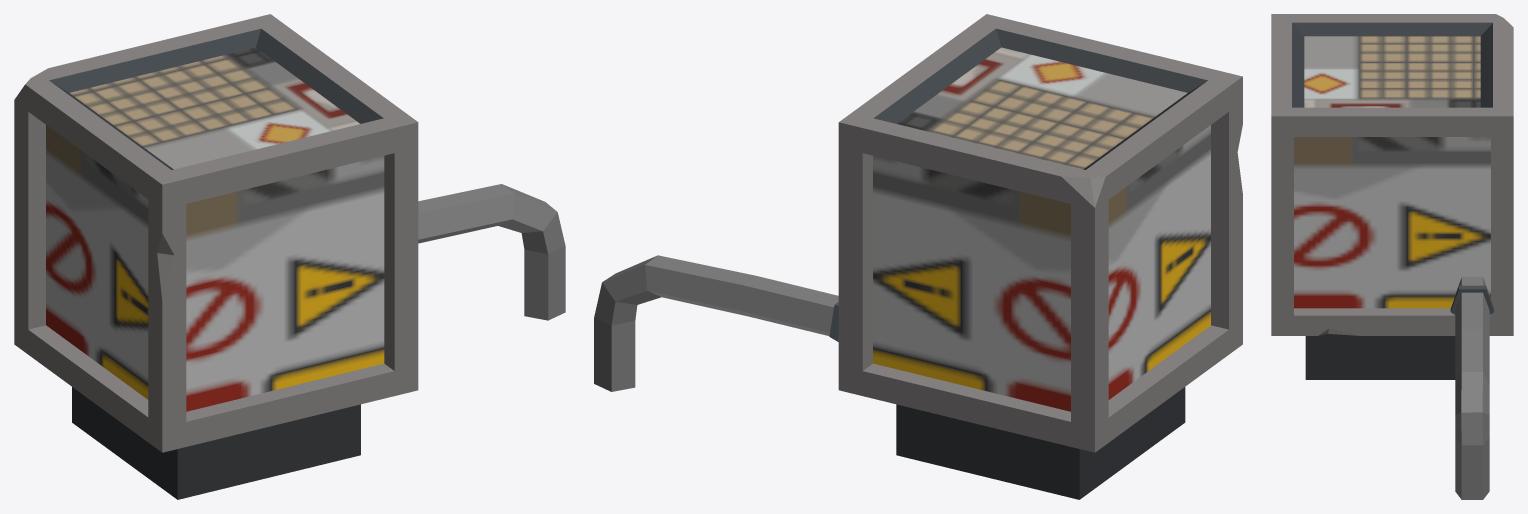
Rendered from SM_Gen_Prop_Aircon_Roof_01.glb.
3 views of the same model, side by side, from view 1: azimuth 30°, elevation 25°; view 2: azimuth 150°, elevation 25°; view 3: azimuth 270°, elevation 25° (orthographic). The views are drawn at different scales.
Visible parts, largest first — view 1: SM_Gen_Prop_Aircon_Roof_01; view 2: SM_Gen_Prop_Aircon_Roof_01; view 3: SM_Gen_Prop_Aircon_Roof_01.
Part boxes in pixels (x1=…): SM_Gen_Prop_Aircon_Roof_01: x1=14, y1=14, x2=565, y2=499; SM_Gen_Prop_Aircon_Roof_01: x1=594, y1=14, x2=1242, y2=499; SM_Gen_Prop_Aircon_Roof_01: x1=1271, y1=14, x2=1513, y2=499.
Bounding box in the file's own units: 1.4 × 0.8773 × 0.6926.
Materials: 1 (1 with a texture image).
